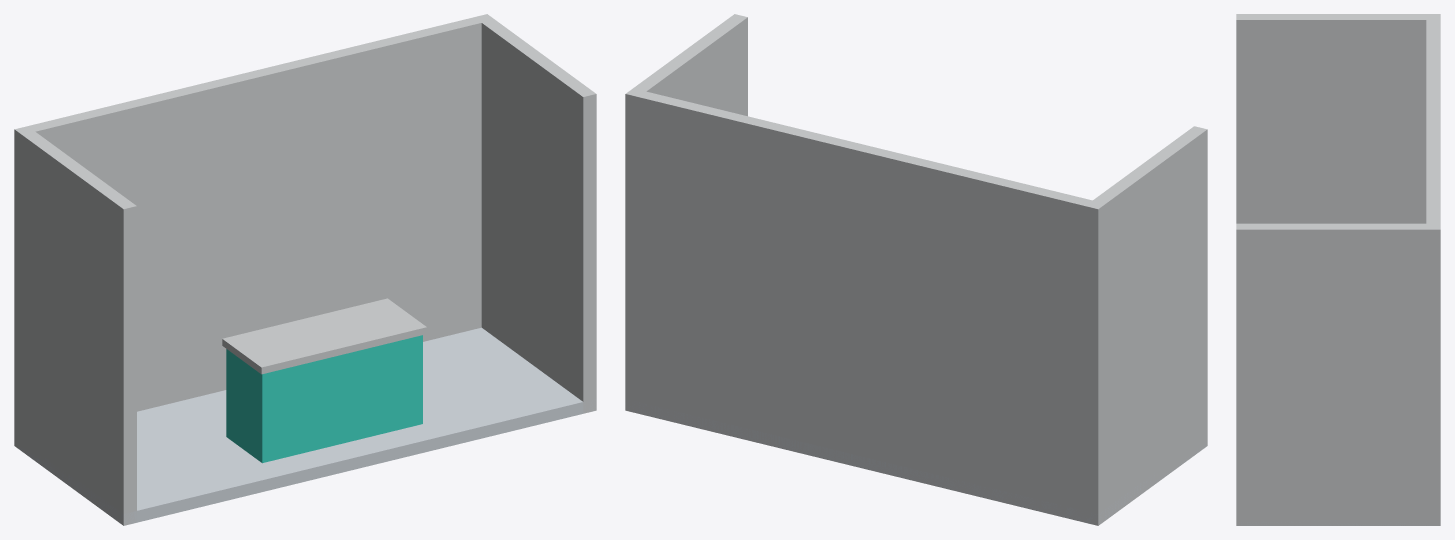
The picture shows the model from 3 angles, left to right: view 1: azimuth 30°, elevation 25°; view 2: azimuth 150°, elevation 25°; view 3: azimuth 270°, elevation 25°; orthographic projection. The views are drawn at different scales.
Visible parts, largest first — view 1: Exhibition Booth Concept; view 2: Exhibition Booth Concept; view 3: Exhibition Booth Concept.
Boxes of the visible parts, left/top/right/bottom form: Exhibition Booth Concept: left=14, top=14, right=596, bottom=525; Exhibition Booth Concept: left=625, top=14, right=1207, bottom=525; Exhibition Booth Concept: left=1236, top=14, right=1440, bottom=525.
Bounding box in the file's own units: 5 × 3.2 × 2.
